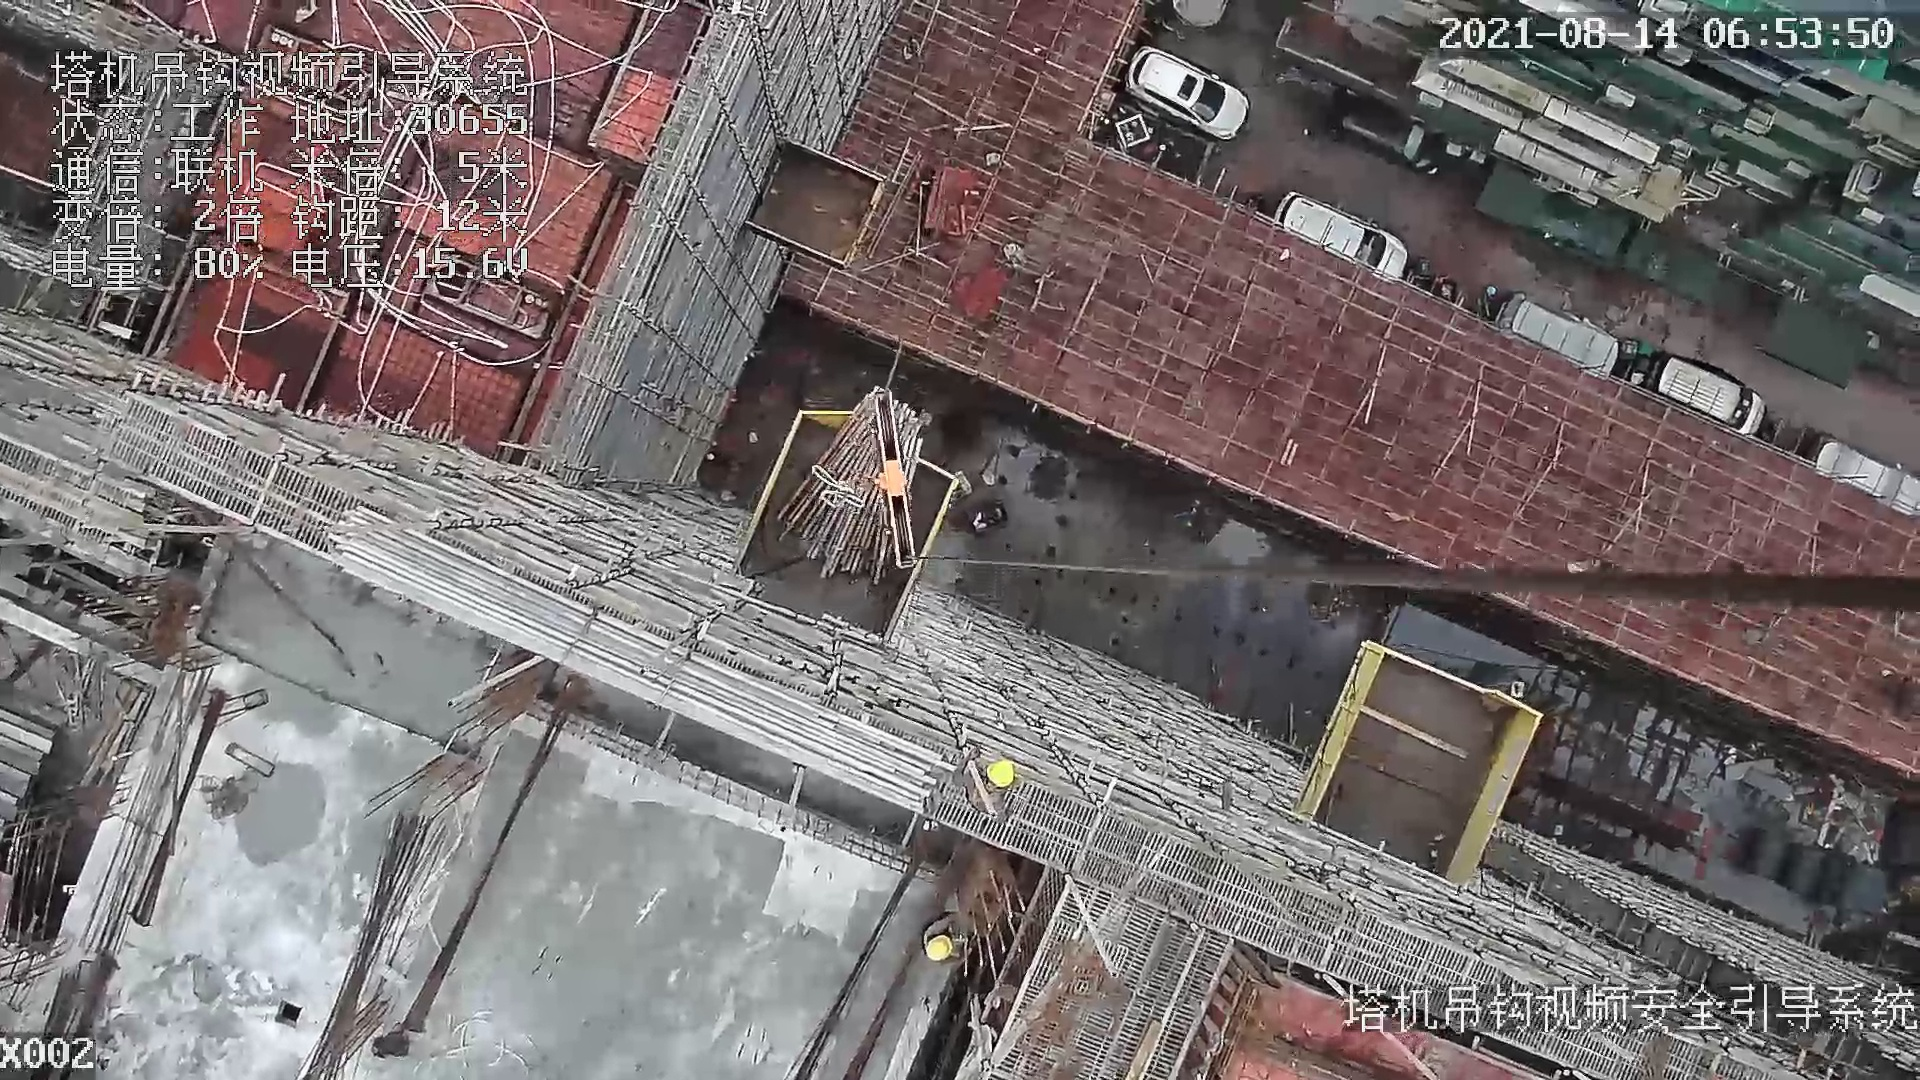helmet: (925, 935, 952, 961), (985, 761, 1014, 786)
hook: (869, 380, 928, 572)
person: (955, 742, 1024, 824), (922, 908, 976, 967)
rebar: (316, 506, 944, 812), (297, 810, 442, 1080)
scaffold: (778, 389, 919, 594)
